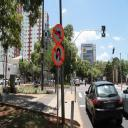NoVirarEsquerda: (52, 22, 65, 46)
NoVirarU: (52, 44, 65, 66)
